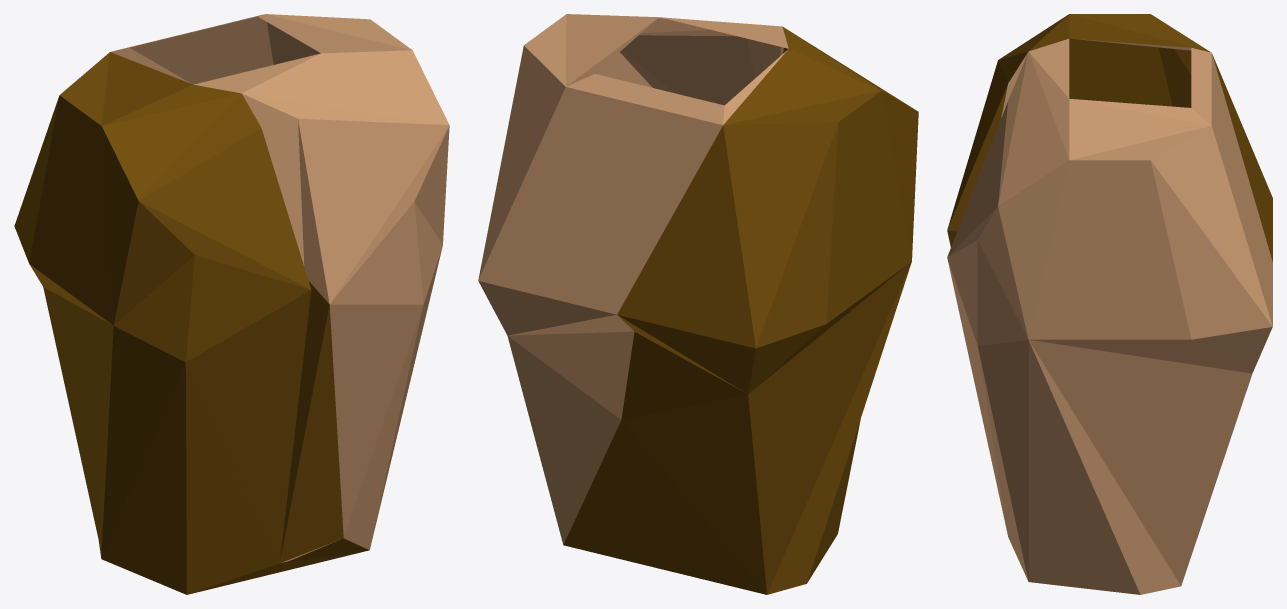
File: npc_world_trufitus_2.obj
The picture shows the model from 3 angles, left to right: view 1: azimuth 30°, elevation 25°; view 2: azimuth 150°, elevation 25°; view 3: azimuth 270°, elevation 25°; orthographic projection. The views are drawn at different scales.
Bounding box in the file's own units: 0.2812 × 0.3984 × 0.25.
